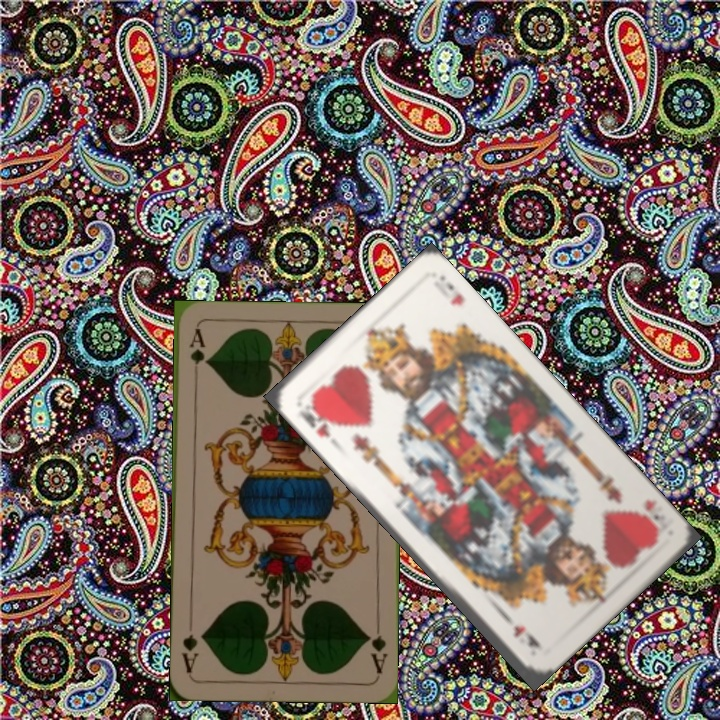GA: (363, 618, 390, 676), (185, 325, 207, 384)
HK: (294, 397, 337, 440), (639, 495, 671, 537)
